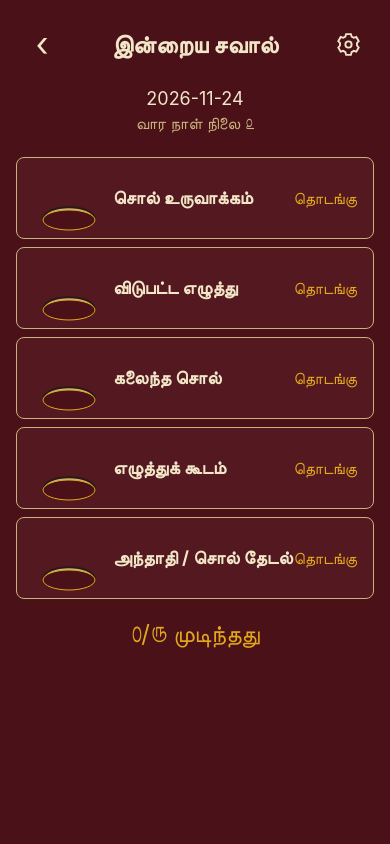
Test: Tamil game mode screens › daily challenge opens each seeded mode instead of only showing empty lamps
The width and height of the screenshot is (390, 844).
Click the button labelled "விடுபட்ட எழுத்து தொடங்கு". click: (195, 288)
box: [16, 247, 374, 329]
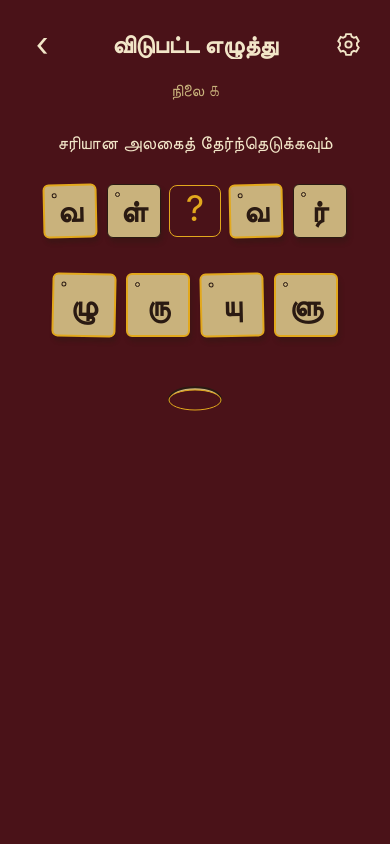
Result: the text "சரியான அலகைத் தேர்ந்தெடுக்கவும்" is shown at [57, 132, 333, 154]
